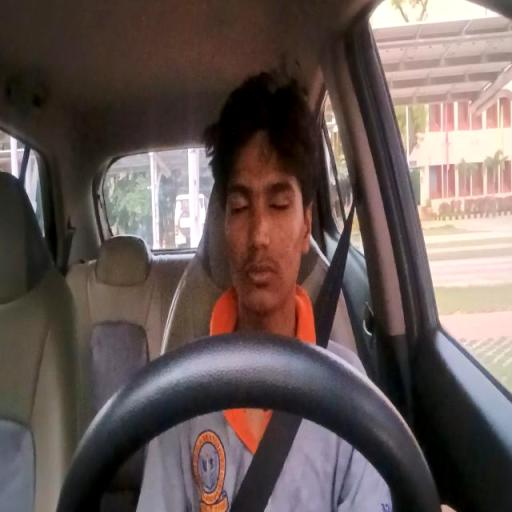sleepy: (213, 78, 318, 320)
